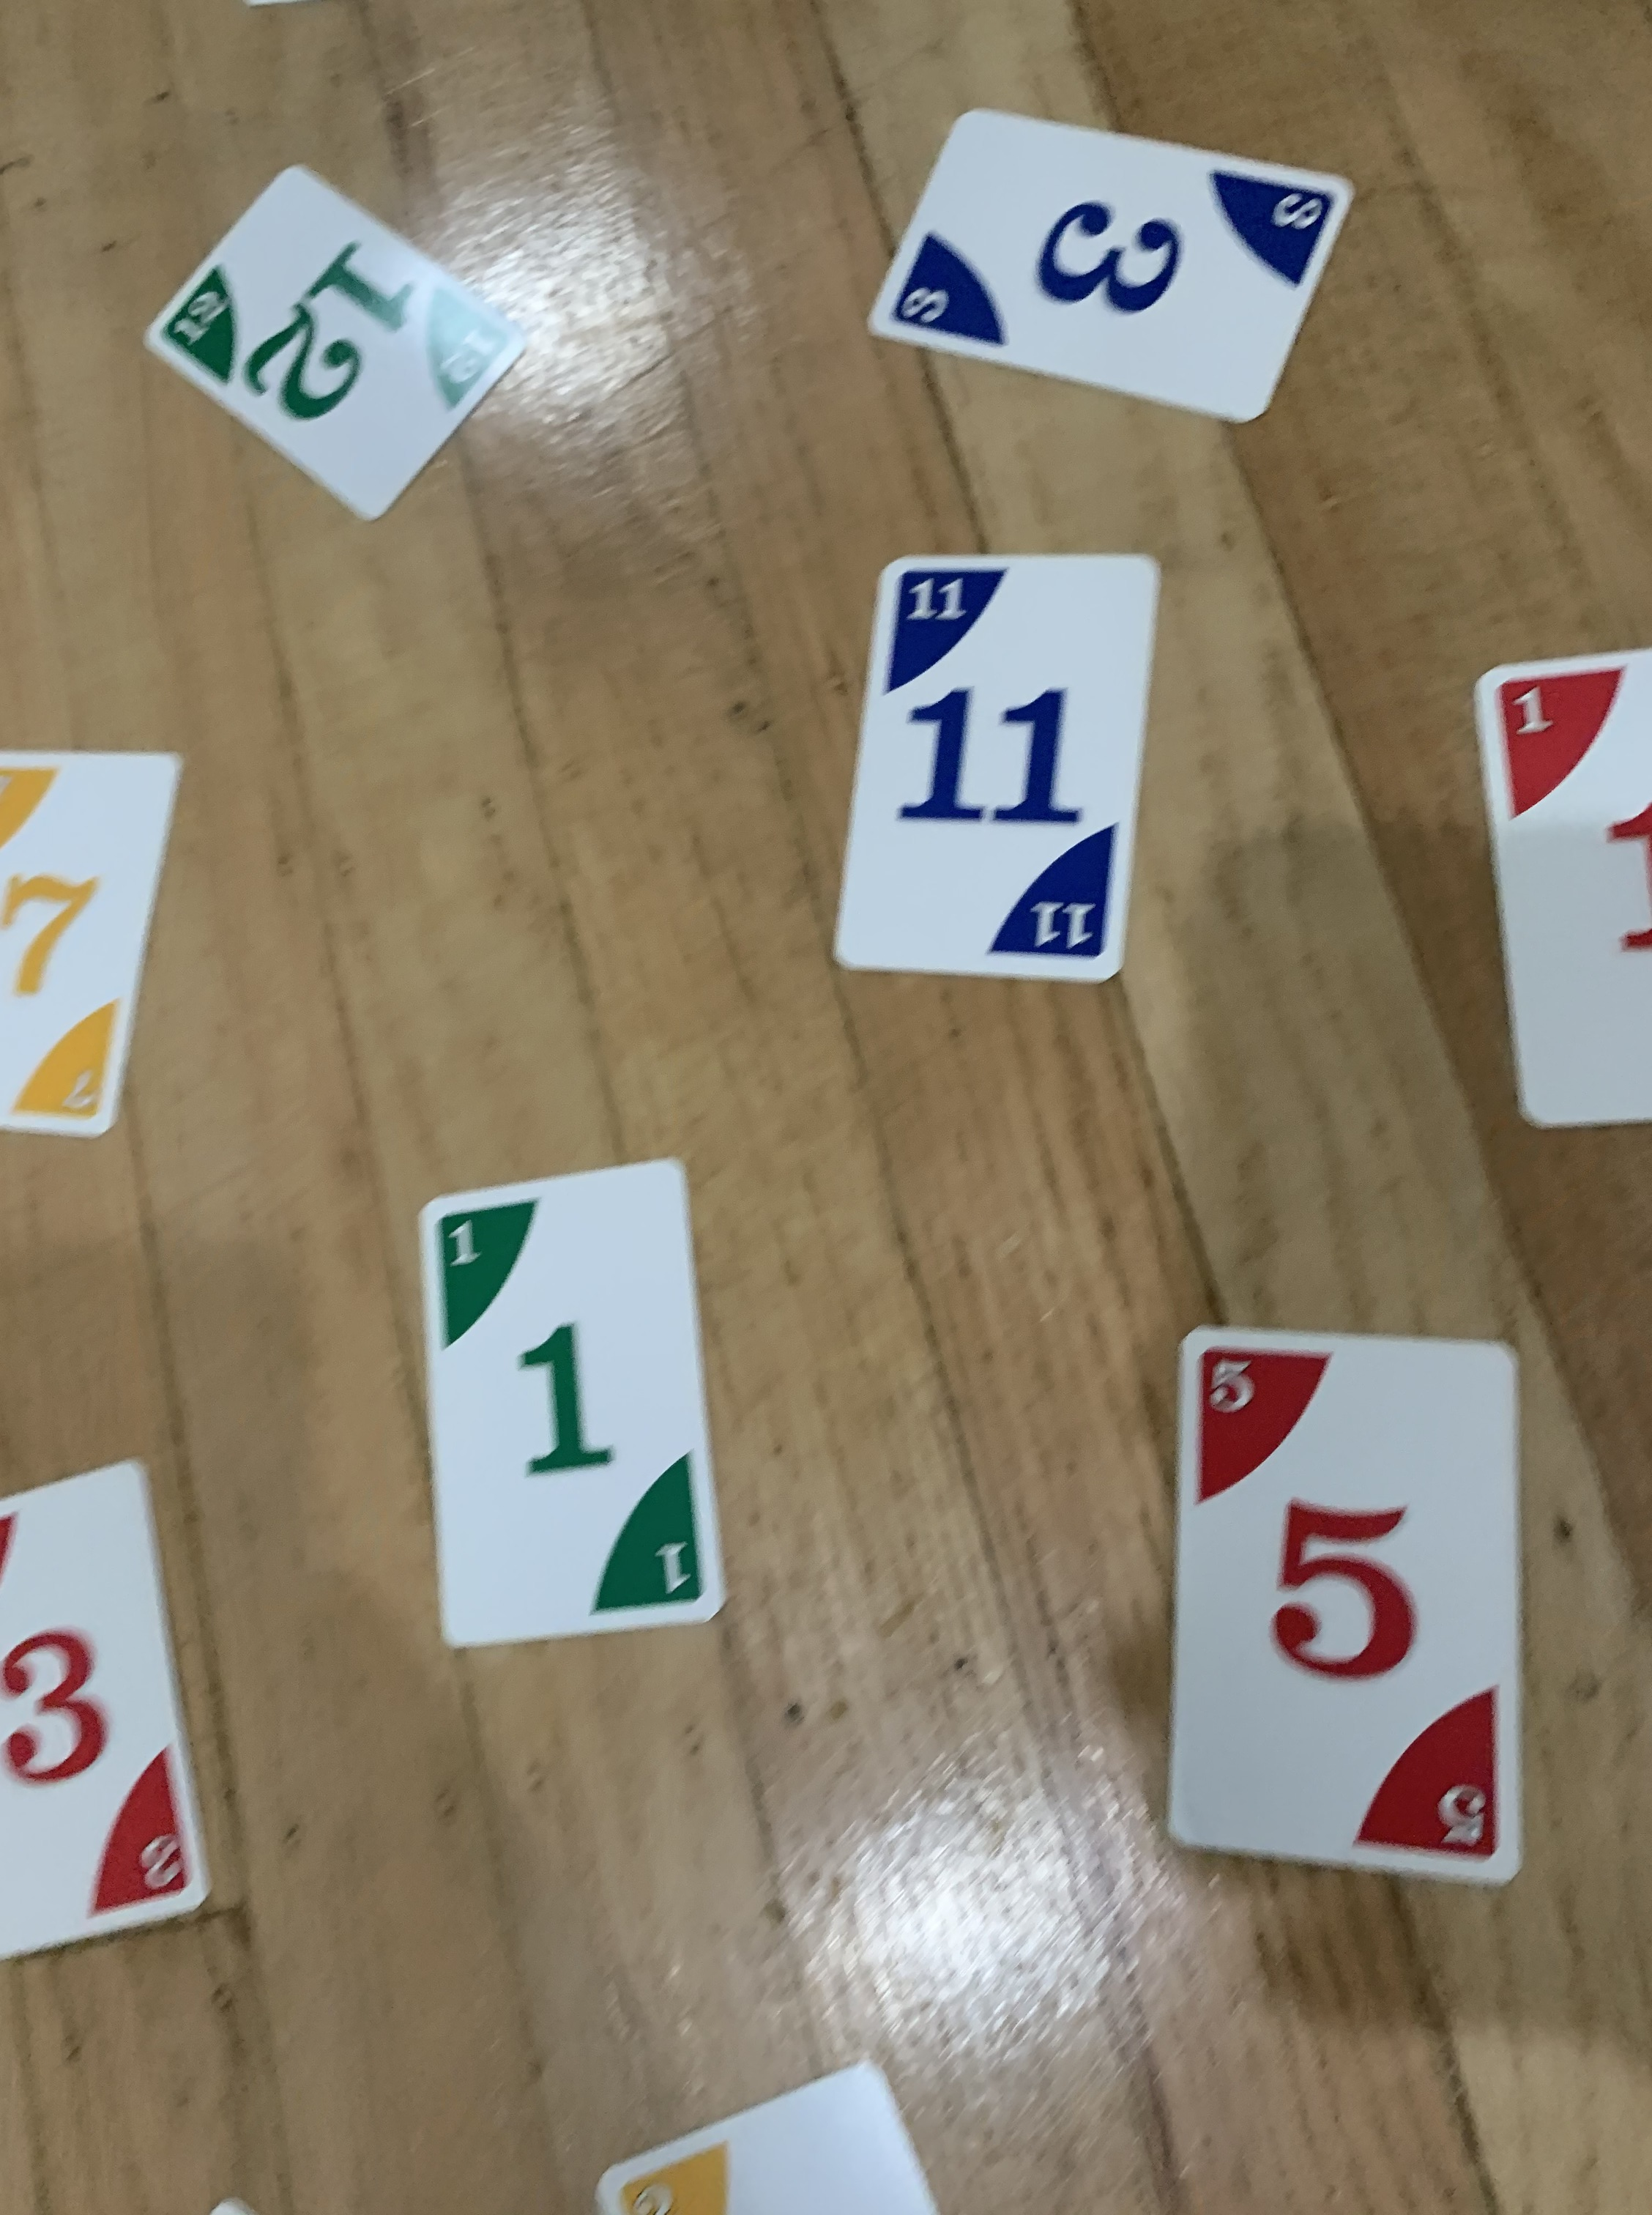eleven: (817, 545, 1161, 995)
five: (1159, 1323, 1532, 1896)
one: (404, 1149, 729, 1651)
seven: (0, 746, 186, 1140)
three: (0, 1443, 205, 1972)
